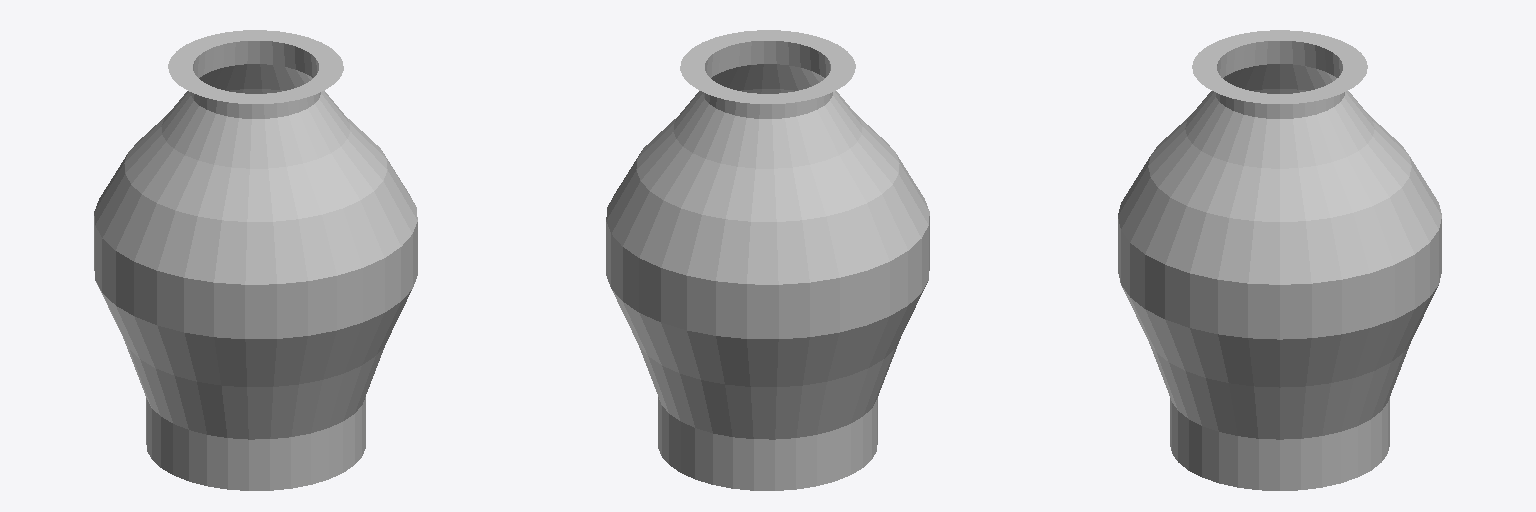
The model's file is pot12.obj.
3 views of the same model, side by side, from view 1: azimuth 30°, elevation 25°; view 2: azimuth 150°, elevation 25°; view 3: azimuth 270°, elevation 25° (orthographic).
Parts seen in each view (by area): view 1: Circle; view 2: Circle; view 3: Circle.
Part boxes in pixels (x1,y1,x2,y2): Circle: (94, 30, 417, 490); Circle: (606, 30, 929, 490); Circle: (1118, 30, 1441, 490).
Size of the model in its own units: 4.69 by 6.02 by 4.69.